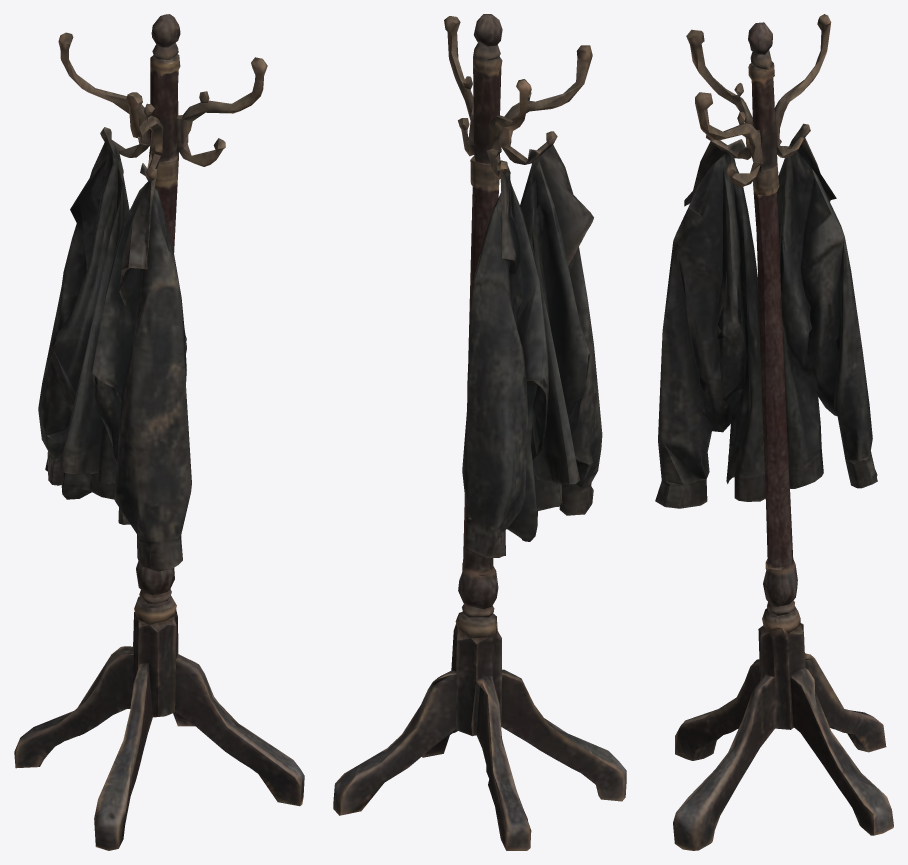
File: p7-coat-rack.glb
3 renders of one model, left to right at view 1: azimuth 30°, elevation 25°; view 2: azimuth 150°, elevation 25°; view 3: azimuth 270°, elevation 25°, orthographic.
Visible parts, largest first — view 1: p7-coat-rack; view 2: p7-coat-rack; view 3: p7-coat-rack.
Boxes of the visible parts, x1,y1,x2,y2 form: p7-coat-rack: [14, 14, 304, 850]; p7-coat-rack: [333, 14, 626, 850]; p7-coat-rack: [655, 14, 893, 850].
Bounding box in the file's own units: 0.5 × 1.8 × 0.5.
Materials: 1 (1 with a texture image).
